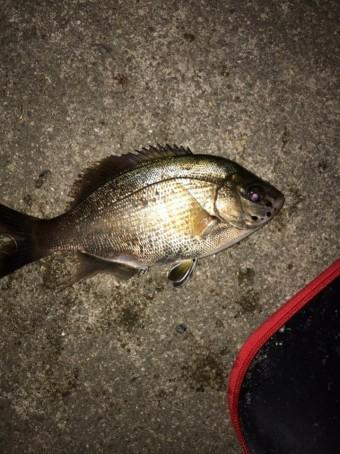fish: (0, 147, 285, 288)
